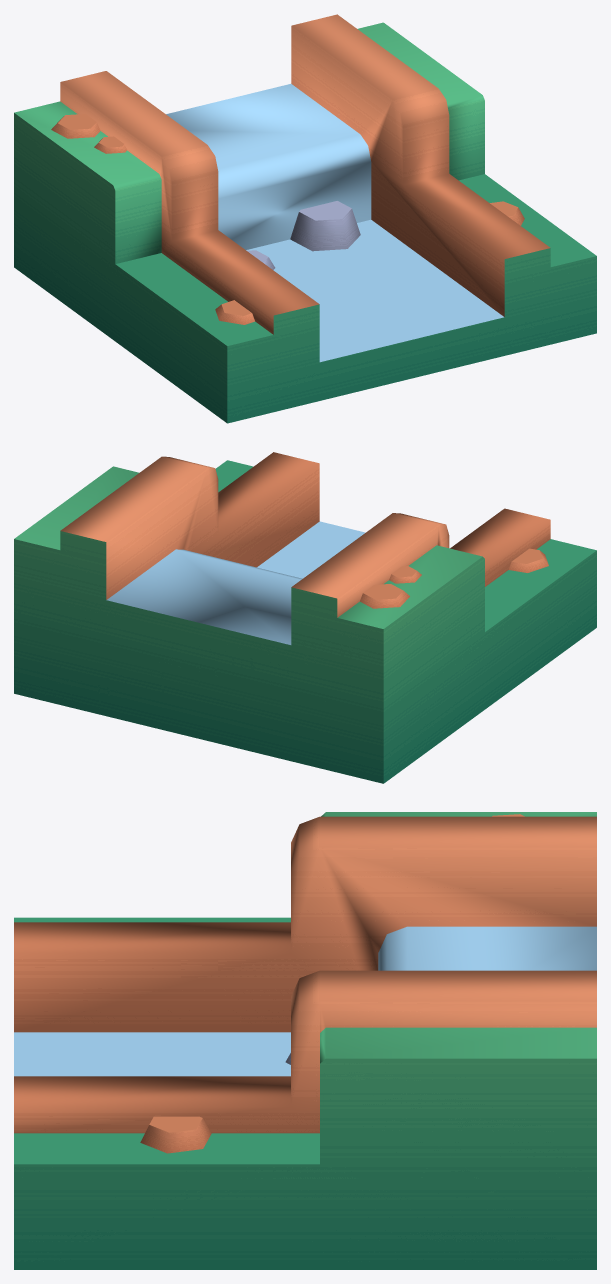
Rendered from tile-river-waterfall.glb.
3 views of the same model, one above another, from view 1: azimuth 30°, elevation 25°; view 2: azimuth 150°, elevation 25°; view 3: azimuth 270°, elevation 25° (orthographic). The views are drawn at different scales.
Visible parts, largest first — view 1: tile-river-waterfall; view 2: tile-river-waterfall; view 3: tile-river-waterfall.
Boxes of the visible parts, box(x1,y1,x2,y2) form: tile-river-waterfall: box(14, 14, 596, 423); tile-river-waterfall: box(14, 452, 596, 783); tile-river-waterfall: box(14, 812, 596, 1269).
Size of the model in its own units: 1 by 0.45 by 1.
1 material, 1 textured.
